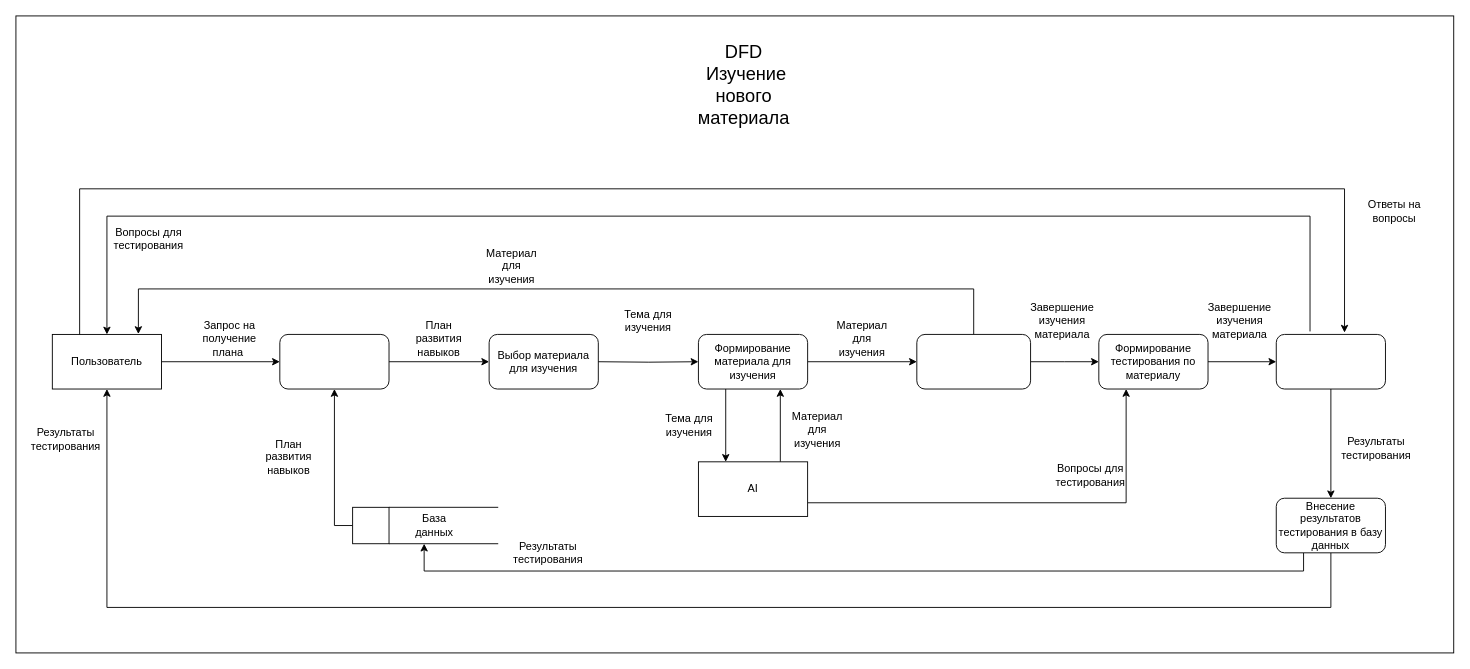
This 1470x669 diagram has some shape labels left out. Here are the shapes that lost their labels. From the top down, the box of each, then its label:
(279, 334, 389, 389): Получение плана развития навыков
(916, 334, 1031, 389): Изучение материала
(1275, 334, 1385, 389): Прохождение тестирования
